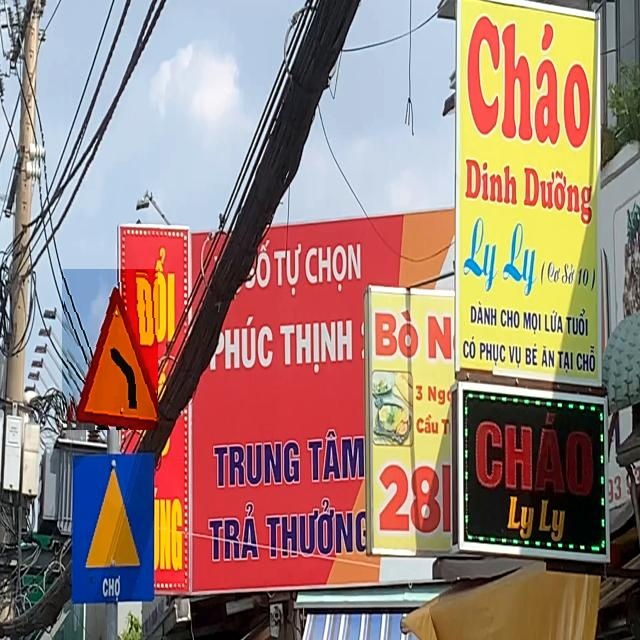bien_nguy_hiem: (62, 269, 158, 430)
